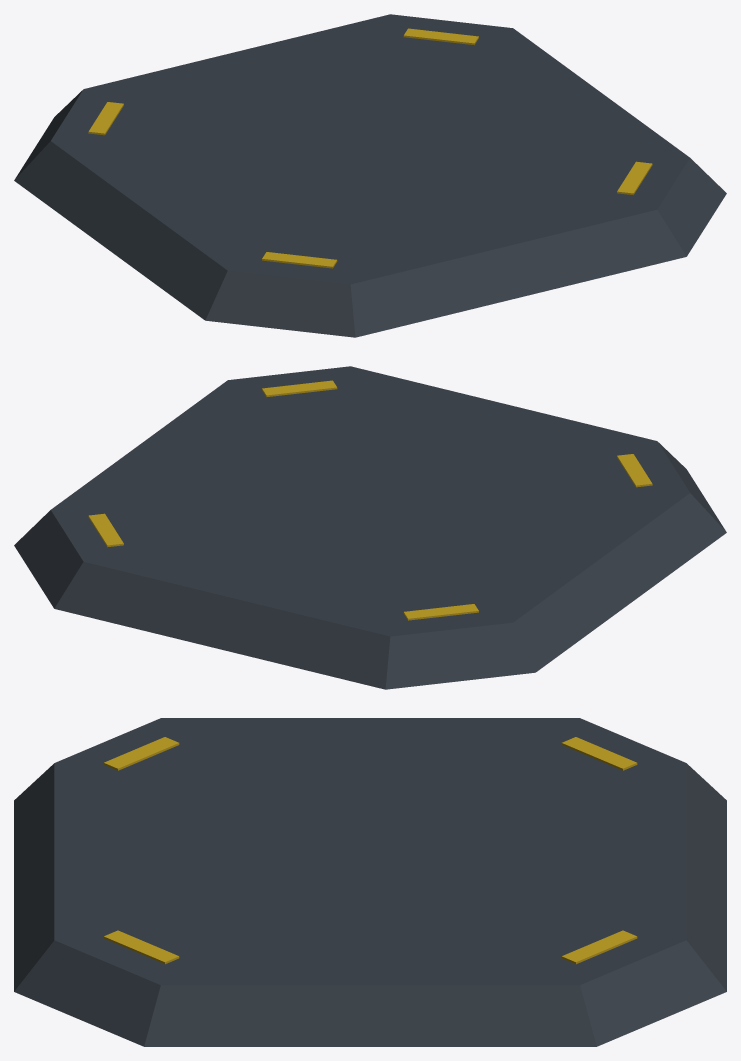
The picture shows the model from 3 angles, top to bottom: view 1: azimuth 30°, elevation 25°; view 2: azimuth 150°, elevation 25°; view 3: azimuth 270°, elevation 25°; orthographic projection. The views are drawn at different scales.
Visible parts, largest first — view 1: bs1_base; view 2: bs1_base; view 3: bs1_base.
Part boxes in pixels (x1,y1,x2,y2): bs1_base: [14, 14, 726, 337]; bs1_base: [14, 366, 726, 689]; bs1_base: [14, 718, 726, 1046].
Size of the model in its own units: 2.47 by 0.178 by 2.47.
